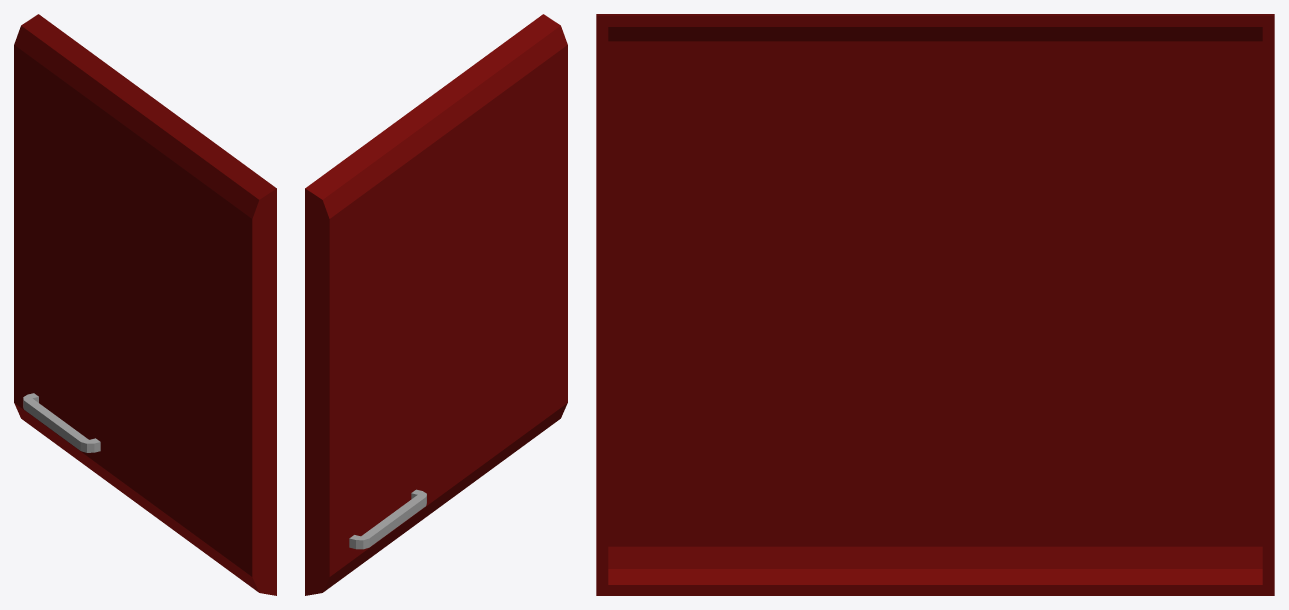
Rendered from door.obj.
The picture shows the model from 3 angles, left to right: view 1: azimuth 30°, elevation 25°; view 2: azimuth 150°, elevation 25°; view 3: azimuth 270°, elevation 25°; orthographic projection. The views are drawn at different scales.
Parts seen in each view (by area): view 1: Cube.123_Cube.151_basic_1, Cube.123_Cube.151_basic_2; view 2: Cube.123_Cube.151_basic_1, Cube.123_Cube.151_basic_2; view 3: Cube.123_Cube.151_basic_1.
Boxes of the visible parts, box(x1,y1,x2,y2) form: Cube.123_Cube.151_basic_1: box(14, 14, 276, 595); Cube.123_Cube.151_basic_2: box(23, 393, 100, 452); Cube.123_Cube.151_basic_1: box(305, 14, 567, 595); Cube.123_Cube.151_basic_2: box(349, 489, 426, 549); Cube.123_Cube.151_basic_1: box(596, 14, 1274, 595).
Bounding box in the file's own units: 0.0117 × 0.1152 × 0.1221.
